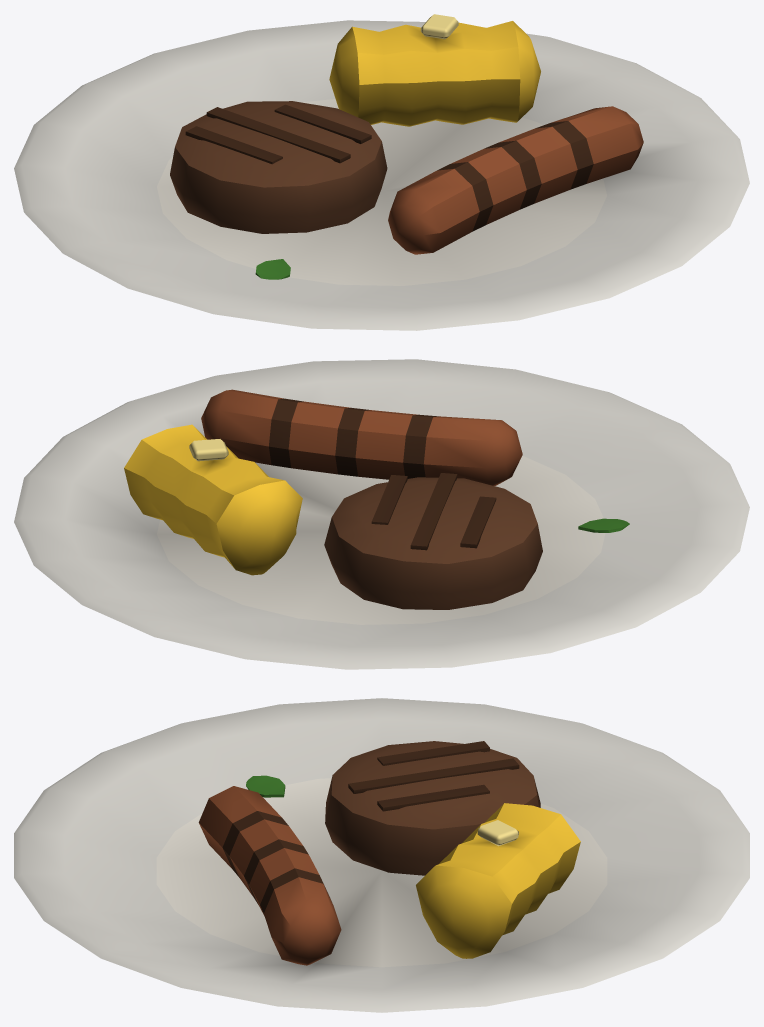
The model's file is bbqPlate.glb.
The picture shows the model from 3 angles, top to bottom: view 1: azimuth 30°, elevation 25°; view 2: azimuth 150°, elevation 25°; view 3: azimuth 270°, elevation 25°; orthographic projection.
Visible parts, largest first — view 1: bbqPlate; view 2: bbqPlate; view 3: bbqPlate.
Boxes of the visible parts, bbox=[...] form: bbqPlate: bbox=[14, 14, 749, 330]; bbqPlate: bbox=[14, 359, 749, 669]; bbqPlate: bbox=[14, 698, 749, 1012].
Size of the model in its own units: 0.2876 by 0.052 by 0.2847.
